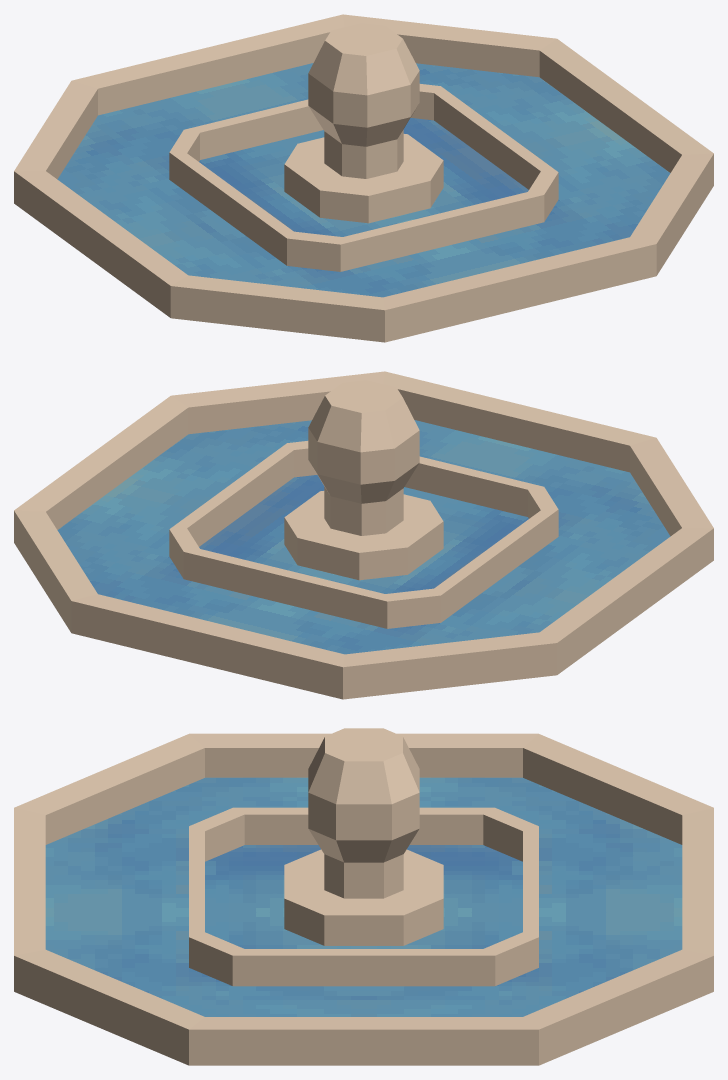
File: m_fountain.fbx
3 views of the same model, one above another, from view 1: azimuth 30°, elevation 25°; view 2: azimuth 150°, elevation 25°; view 3: azimuth 270°, elevation 25° (orthographic). The views are drawn at different scales.
Visible parts, largest first — view 1: Cube.017; view 2: Cube.017; view 3: Cube.017.
Boxes of the visible parts, x1,y1,x2,y2 form: Cube.017: [14, 14, 713, 342]; Cube.017: [14, 371, 713, 699]; Cube.017: [14, 728, 713, 1065].
Bounding box in the file's own units: 1760 × 482 × 1760.
Materials: 1 (1 with a texture image).
